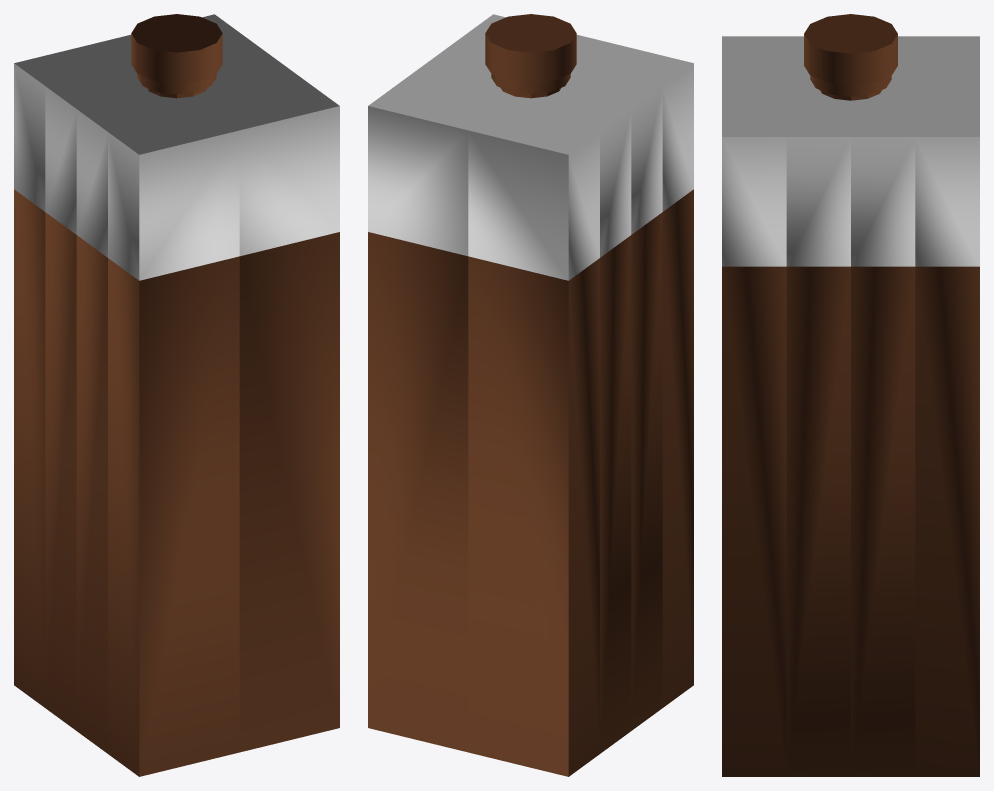
Rendered from Milk Carton 1.fbx.
3 renders of one model, left to right at view 1: azimuth 30°, elevation 25°; view 2: azimuth 150°, elevation 25°; view 3: azimuth 270°, elevation 25°, orthographic. The views are drawn at different scales.
Parts seen in each view (by area): view 1: Node 0; view 2: Node 0; view 3: Node 0.
Part boxes in pixels (x1,y1,x2,y2): Node 0: [14, 14, 339, 776]; Node 0: [368, 14, 693, 776]; Node 0: [722, 14, 979, 776].
Bounding box in the file's own units: 0.0767 × 0.2275 × 0.0709.
